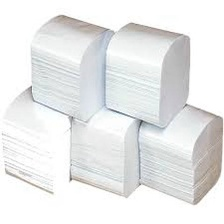tissue: (24, 9, 120, 127), (98, 16, 195, 132), (131, 98, 224, 209), (0, 79, 79, 199), (63, 99, 149, 201)
